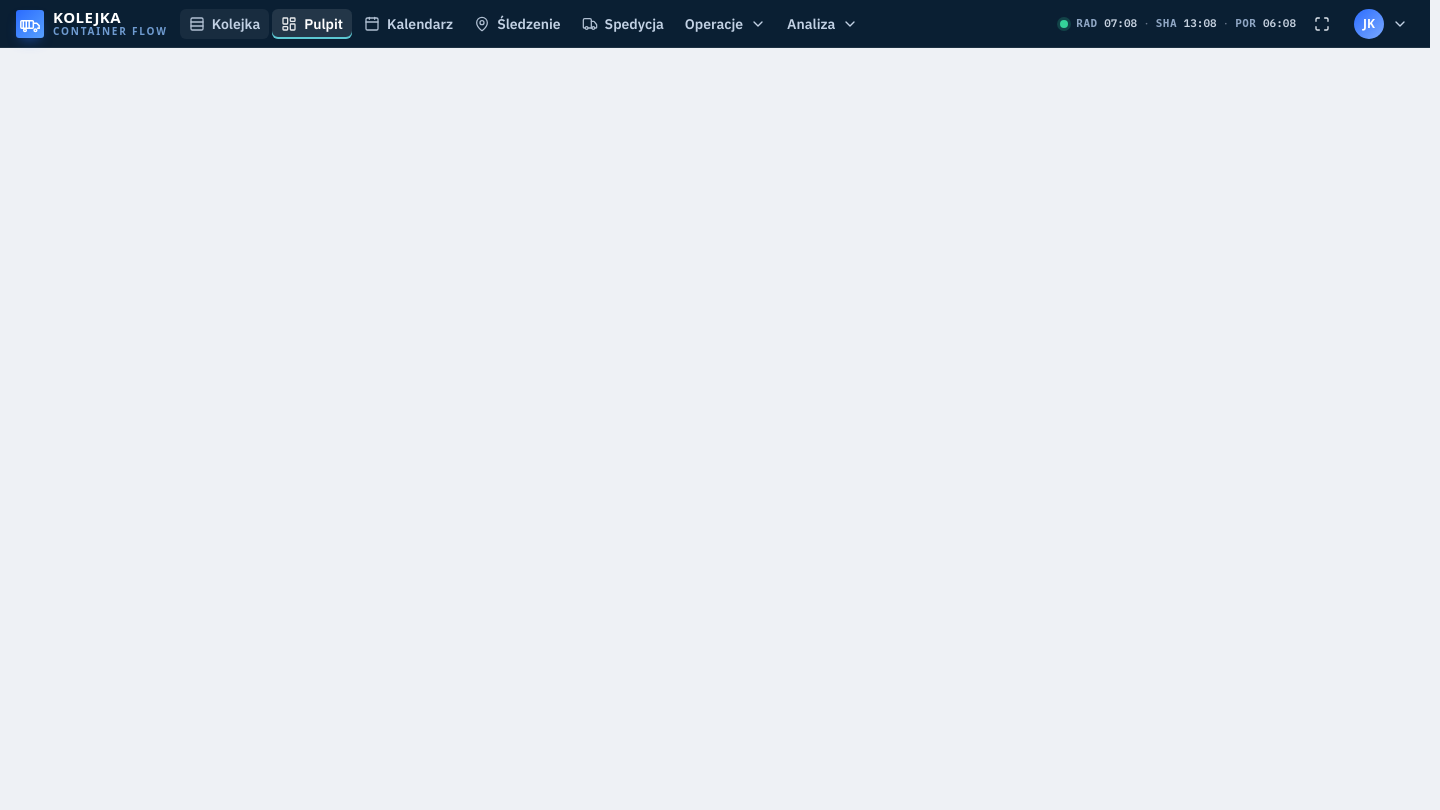
menu użytkownika › pozycje z ikoną i tekstem; motyw i język podpisane
Click the button with class "tn-user": click(1381, 24) 1348,6 -> 1414,40
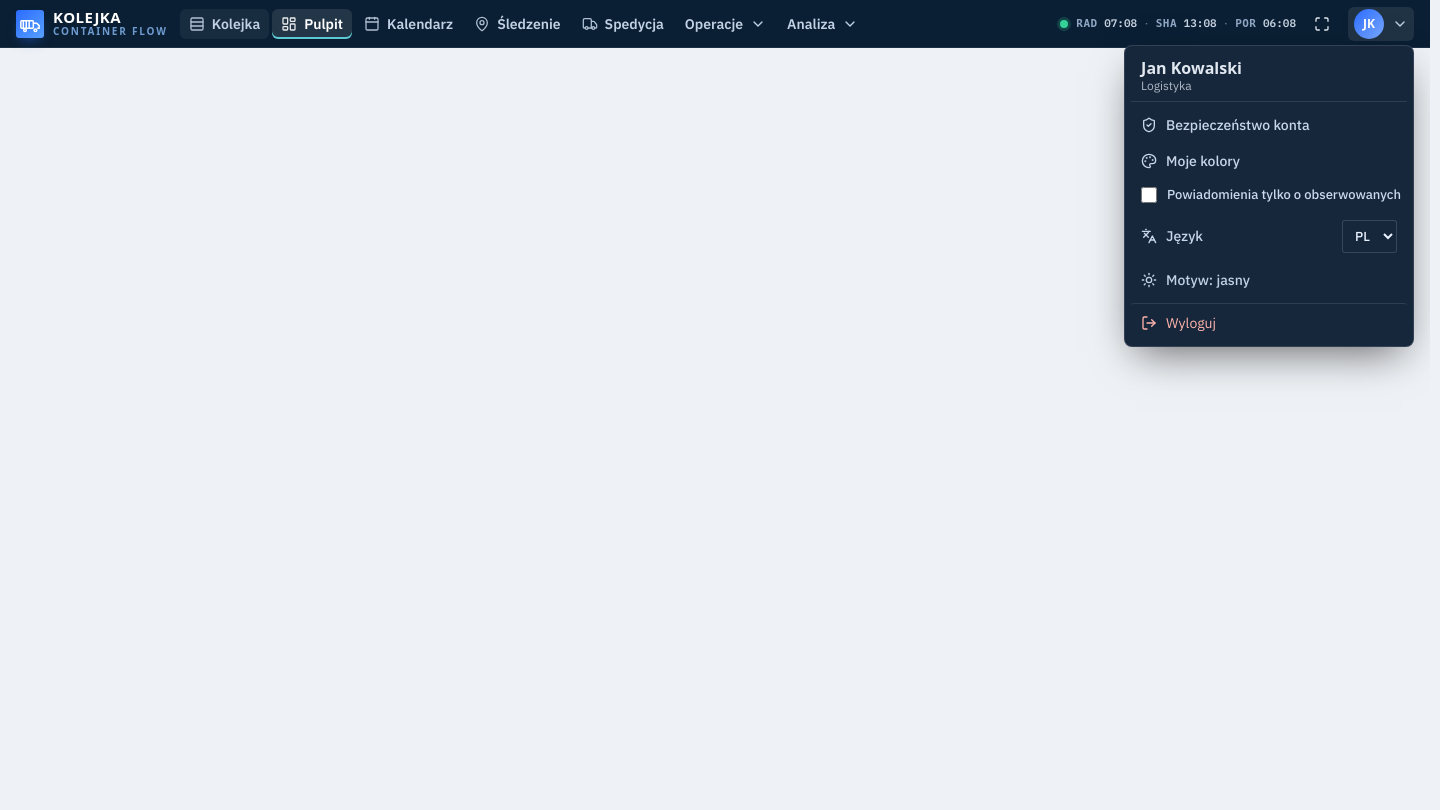
Result: the button with class "tn-theme-toggle" reads "Motyw: jasny"
Click the button with class "tn-theme-toggle": click(1208, 280) 1131,262 -> 1407,296
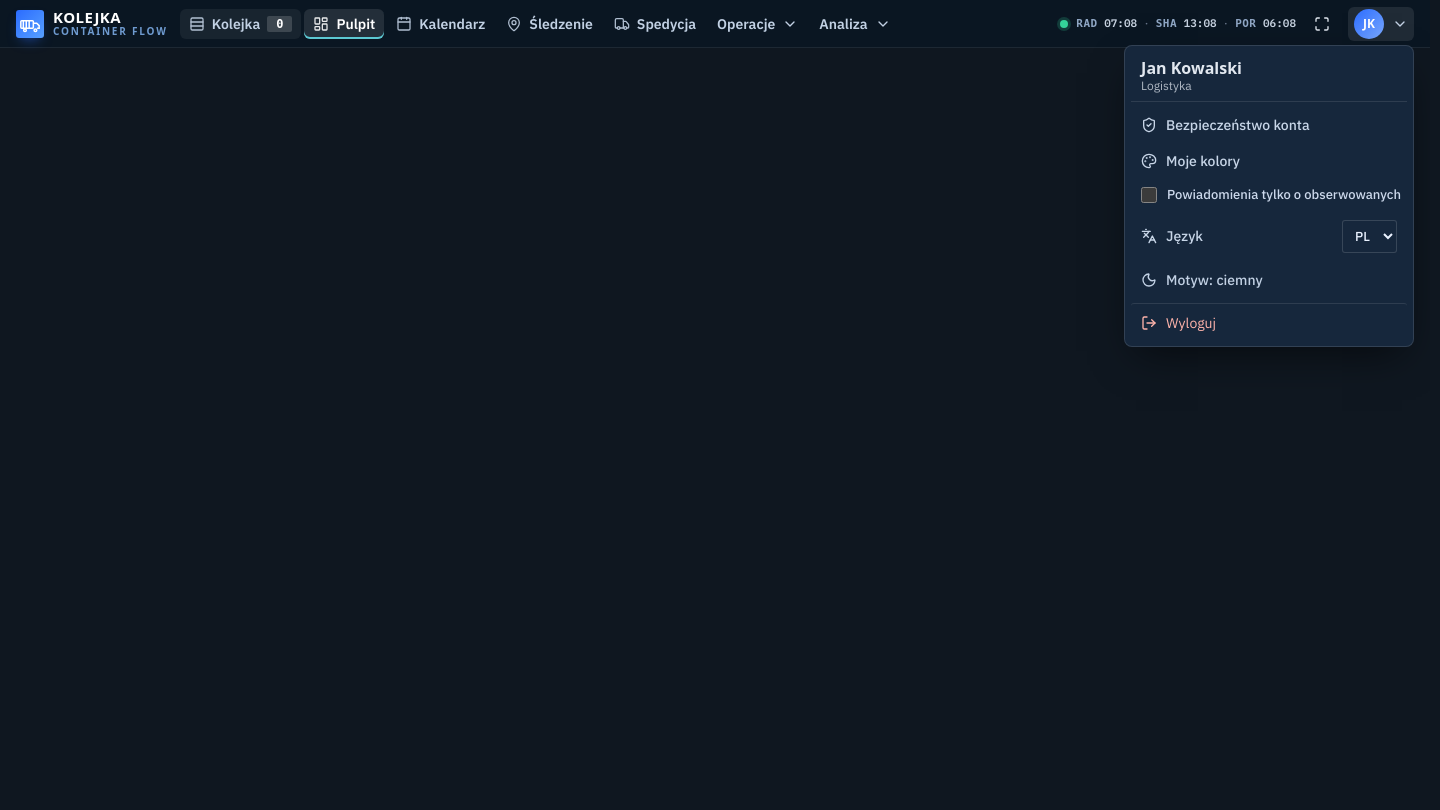
Result: the label labelled "Język" is shown at 1131,212 -> 1407,260
Result: the checkbox labelled "Powiadomienia tylko o obserwowanych" is shown at 1141,186 -> 1157,202
Result: the button with class "tn-theme-toggle" reads "Motyw: ciemny" at 1131,262 -> 1407,296
